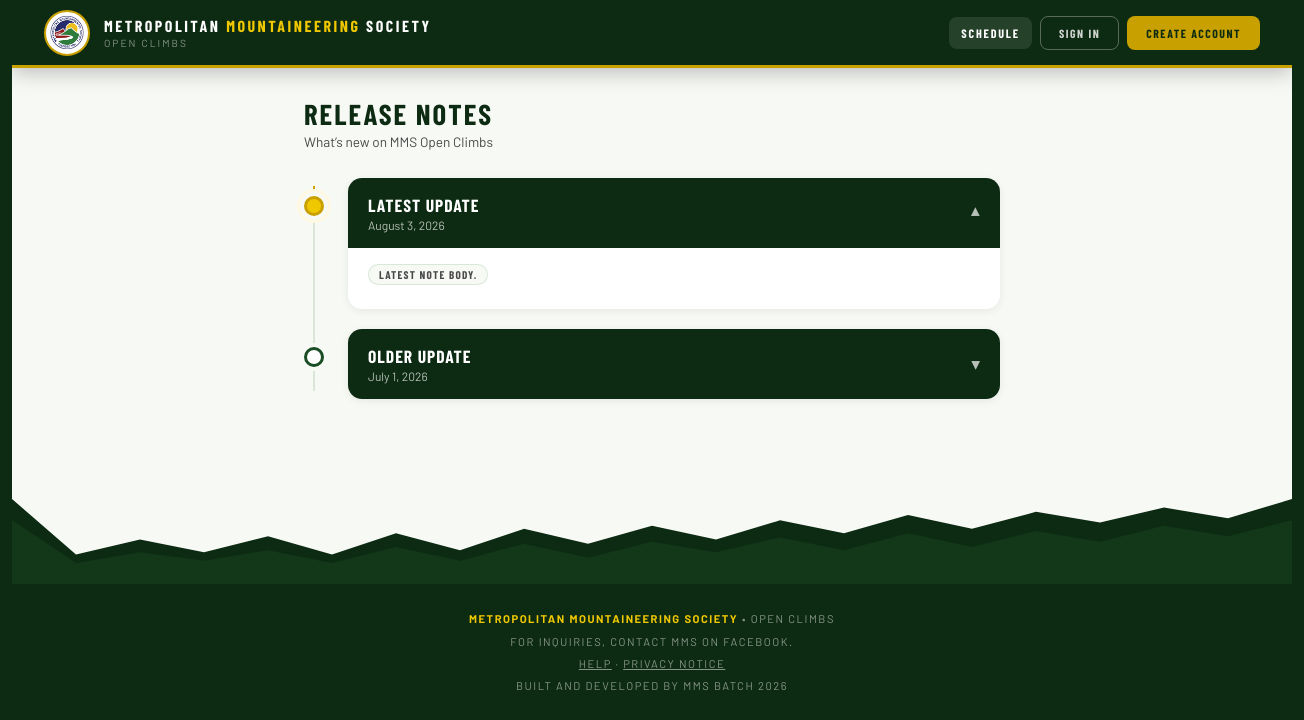
ReleaseNotes page › expands only the latest note by default, and toggles others on click
Expected: the text "Latest Update" is shown, x1=368 y1=194 x2=480 y2=216
Expected: the text "Latest note body." is shown, x1=368 y1=264 x2=488 y2=285
Click the text "Older Update" at (420, 356), box x1=368 y1=345 x2=472 y2=367
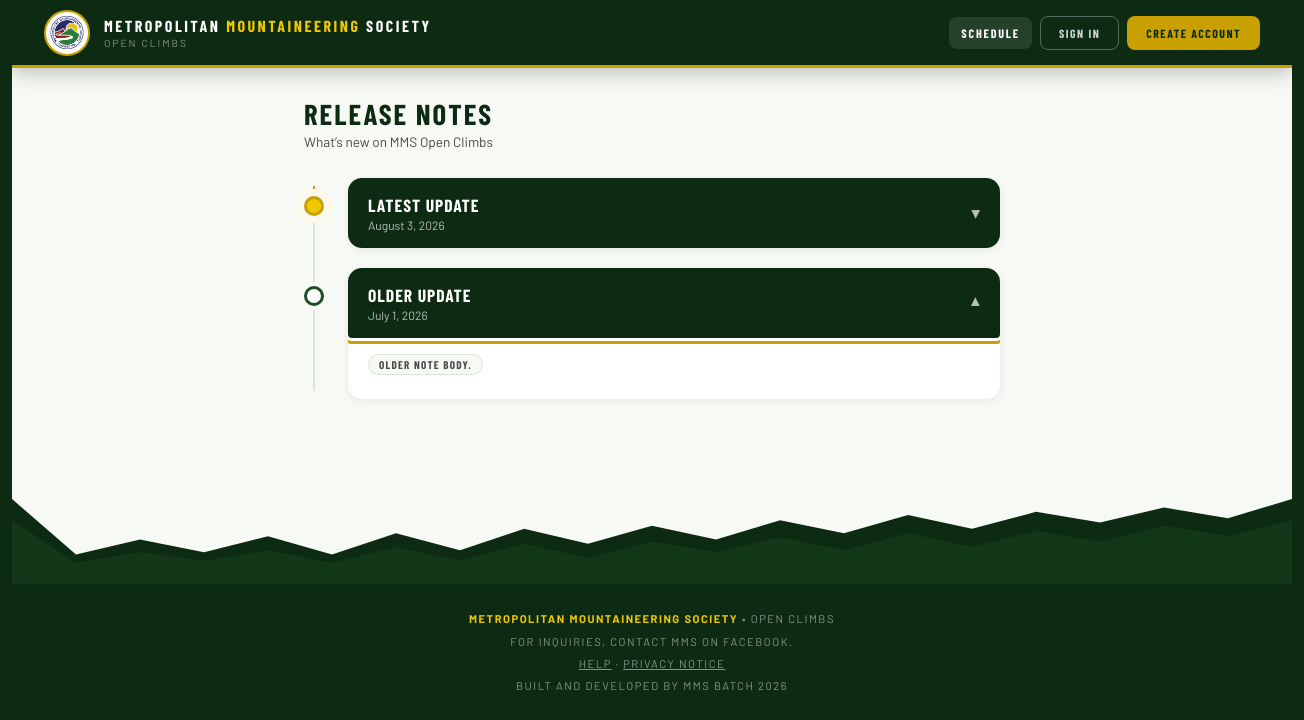
Now the text "Older note body." is shown, box x1=368 y1=354 x2=483 y2=375
